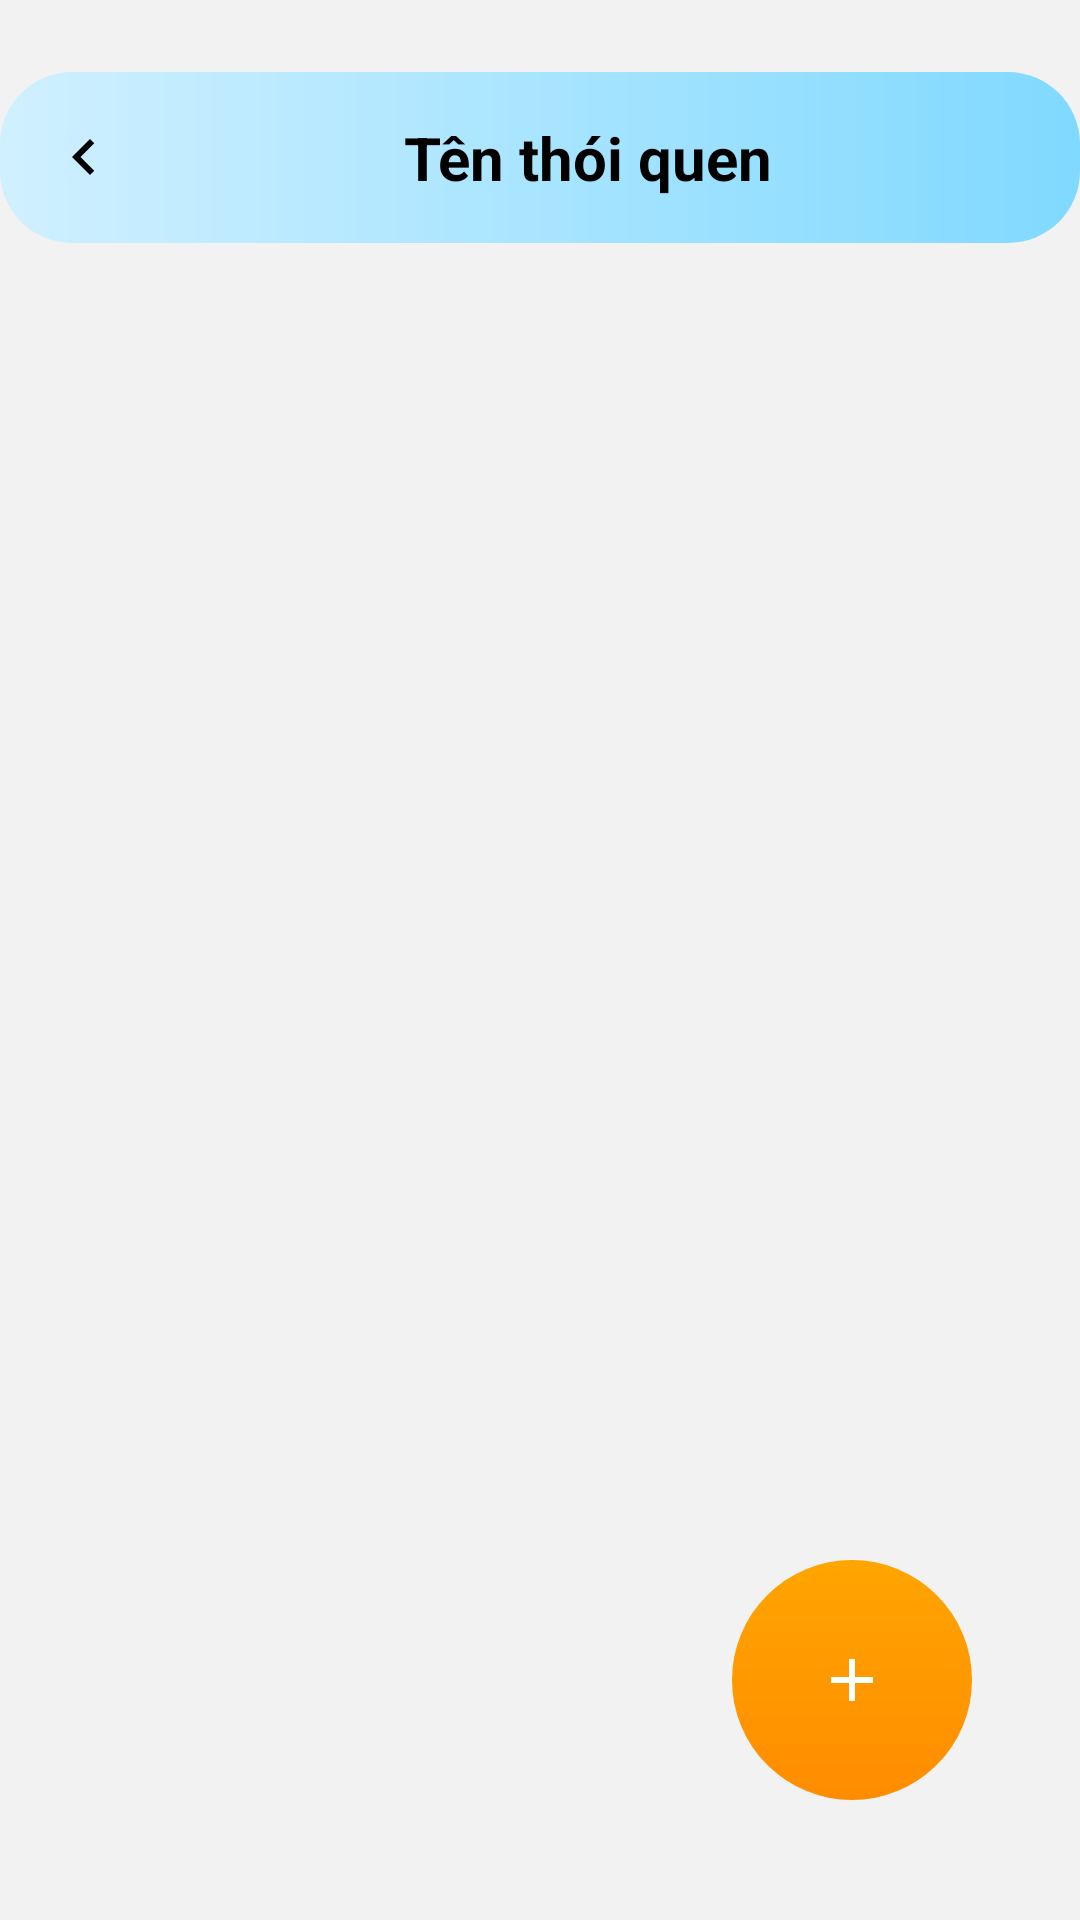

Icons on this 1080 x 1920 Android screen, each with the point to tap as [x,y]:
Nút quay lại: [83,157]
Thêm ghi chú mới: [852,1680]
